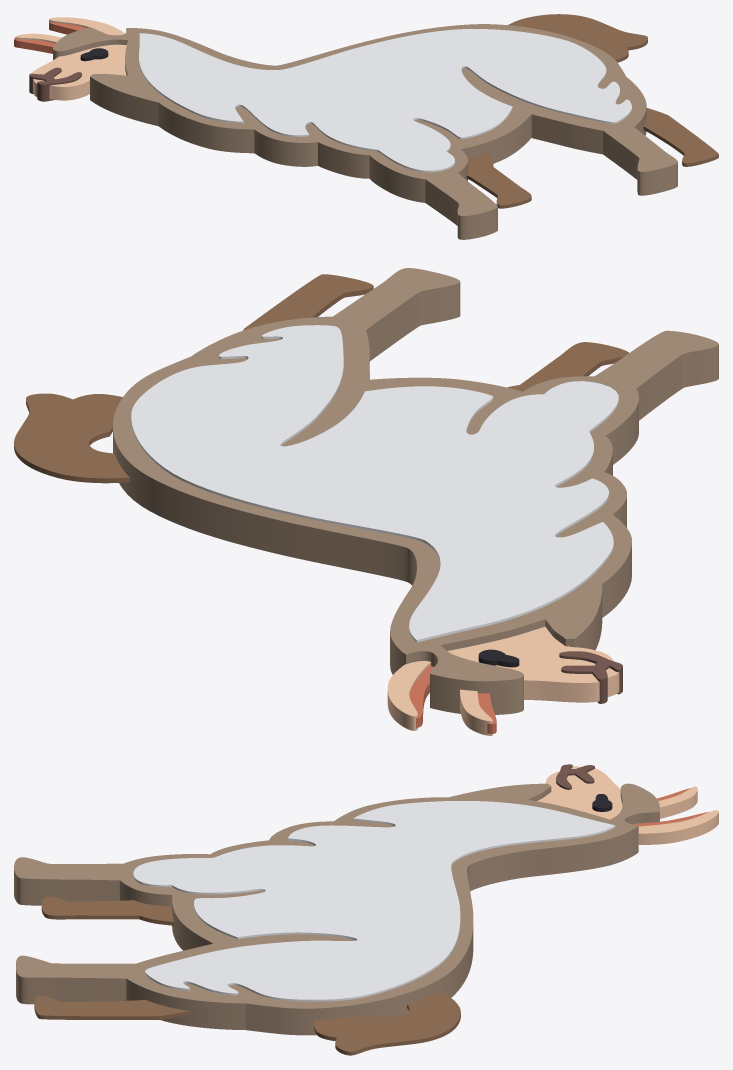
The model's file is emoji_u1f999.glb.
3 renders of one model, top to bottom at view 1: azimuth 30°, elevation 25°; view 2: azimuth 150°, elevation 25°; view 3: azimuth 270°, elevation 25°, orthographic. The views are drawn at different scales.
Visible parts, largest first — view 1: emoji_u1f999; view 2: emoji_u1f999; view 3: emoji_u1f999.
Boxes of the visible parts, x1,y1,x2,y2 form: emoji_u1f999: (14, 14, 718, 239); emoji_u1f999: (14, 268, 718, 735); emoji_u1f999: (14, 764, 718, 1055).
Bounding box in the file's own units: 0.0315 × 0.0016 × 0.0336.
